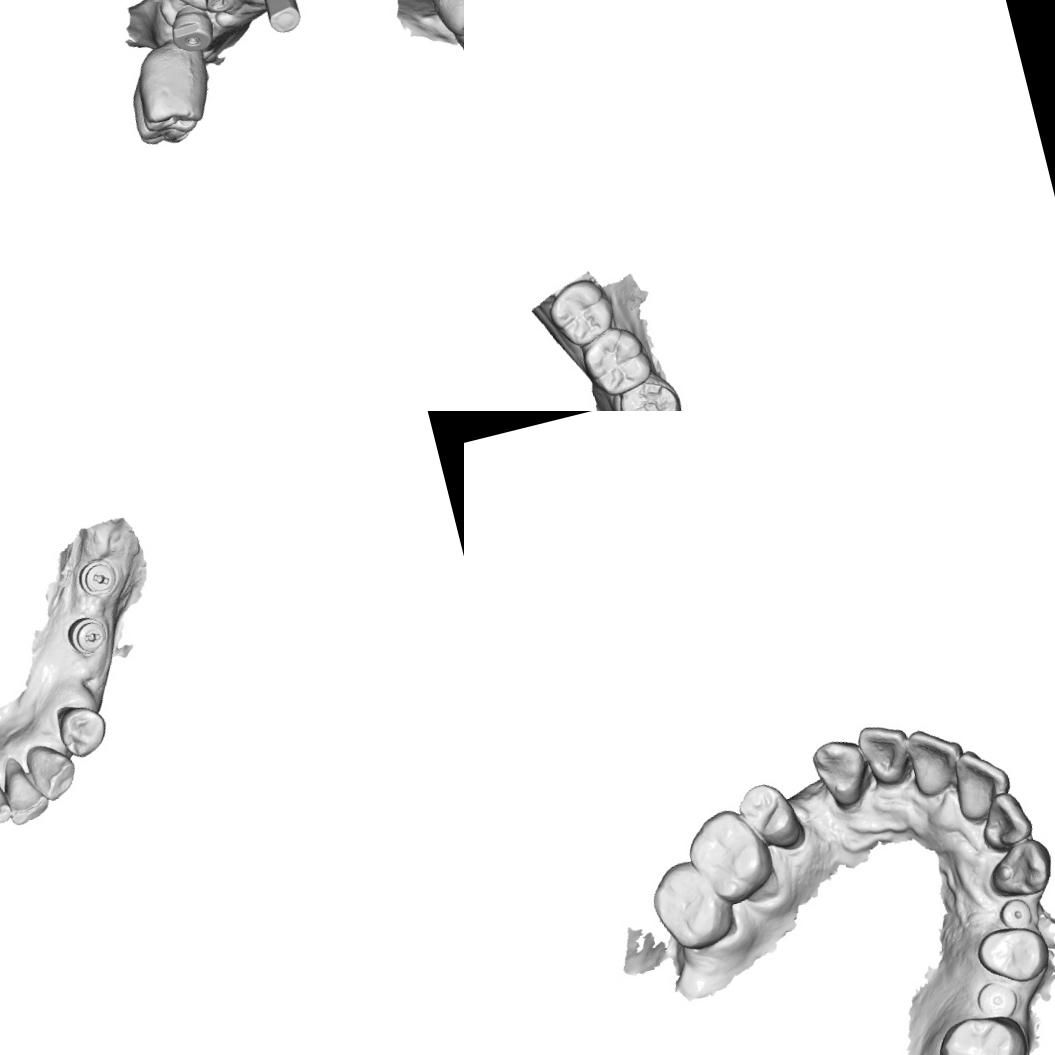canine: (807, 733, 875, 814), (982, 833, 1055, 903), (22, 736, 82, 804)
implant: (160, 0, 224, 60), (972, 976, 1021, 1024), (248, 0, 308, 38), (995, 894, 1034, 932)
implant_minus: (62, 611, 112, 659), (74, 554, 121, 600)
incisor: (945, 741, 1018, 824), (902, 718, 972, 800), (854, 717, 917, 792), (971, 786, 1036, 855), (0, 748, 53, 826), (0, 763, 14, 829)
molar: (679, 800, 780, 912), (643, 851, 741, 958), (542, 272, 623, 352), (576, 323, 657, 403), (928, 1005, 1038, 1055)
premolar: (124, 34, 216, 140), (732, 775, 809, 860), (971, 917, 1055, 991), (126, 78, 191, 154), (52, 697, 112, 760), (609, 371, 689, 411), (416, 0, 464, 44), (446, 0, 464, 56)
